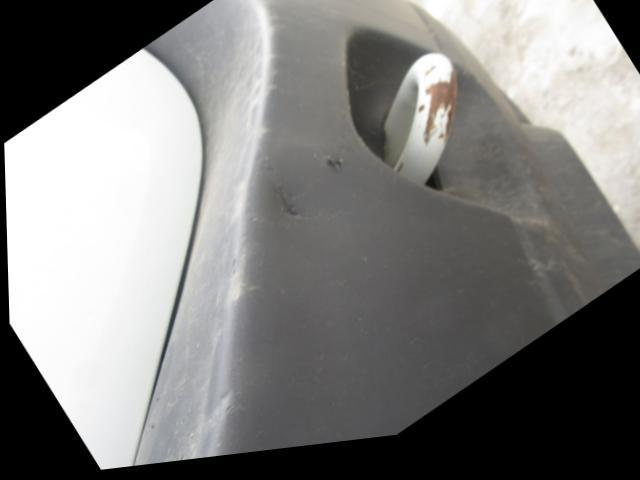crack: (267, 174, 313, 246), (314, 158, 354, 187)
